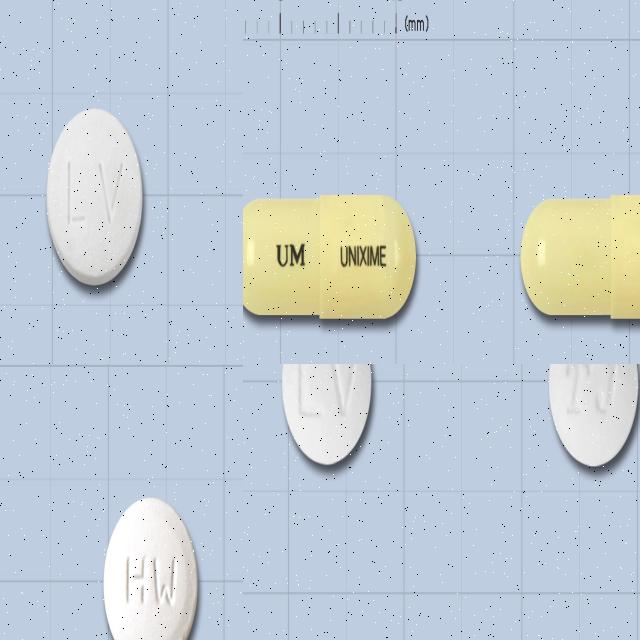Levobacter: (45, 105, 145, 286)
Max-xacin: (103, 496, 198, 640)
Taiguk Ciprofloxacin HCl Tab: (549, 364, 639, 467), (281, 364, 372, 464)
Urolevo Tab: (243, 193, 417, 320), (519, 193, 640, 320)
